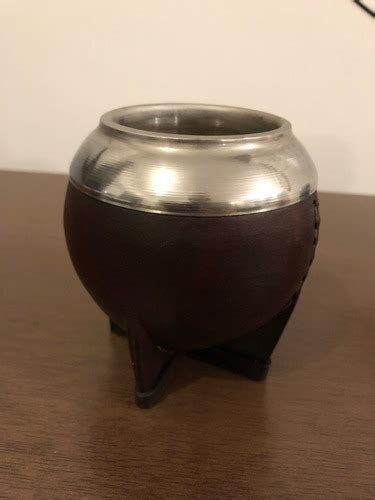cuero: (61, 179, 323, 409)
